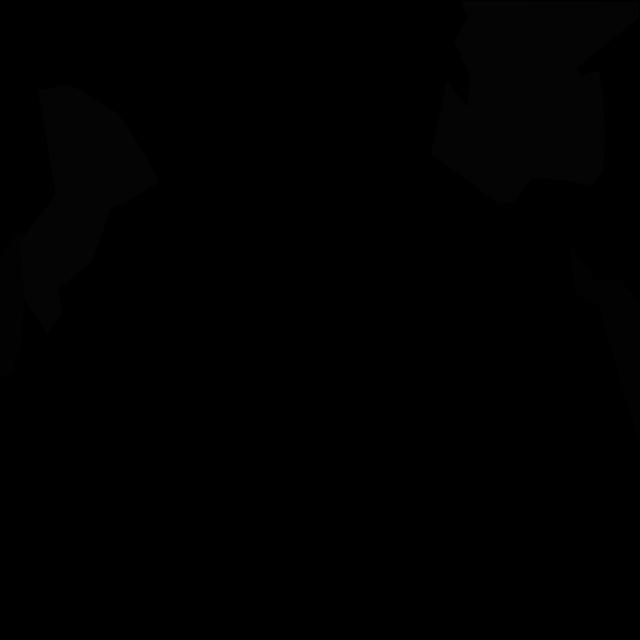cardboard: (569, 241, 640, 444), (0, 233, 25, 380)
soft_plastic: (431, 0, 639, 205), (20, 84, 160, 333)
